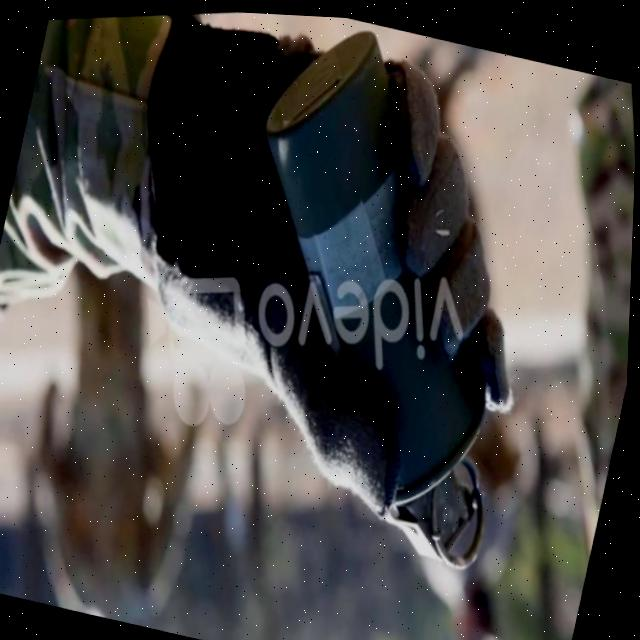grenade: (150, 7, 609, 627)
